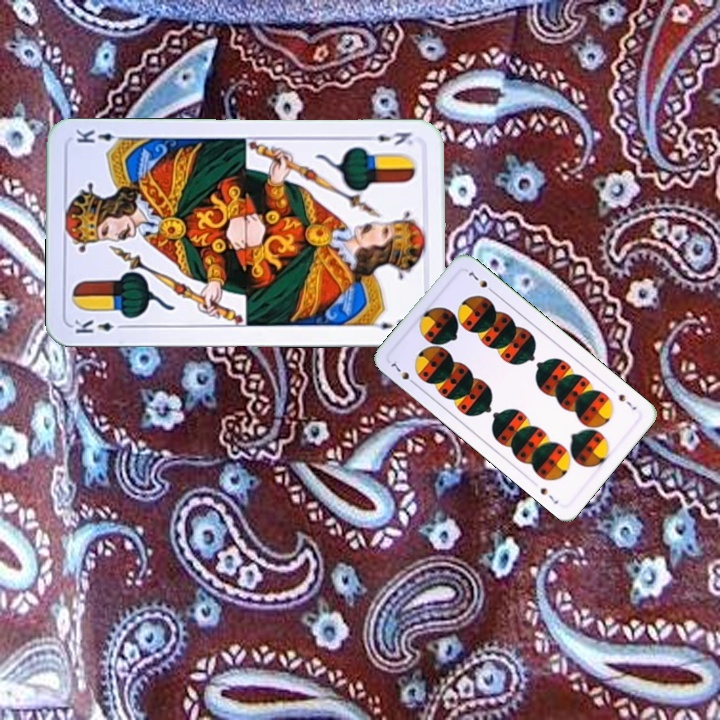EK: (70, 314, 129, 336), (361, 128, 416, 148)
S7: (386, 359, 419, 388), (614, 390, 639, 413)
